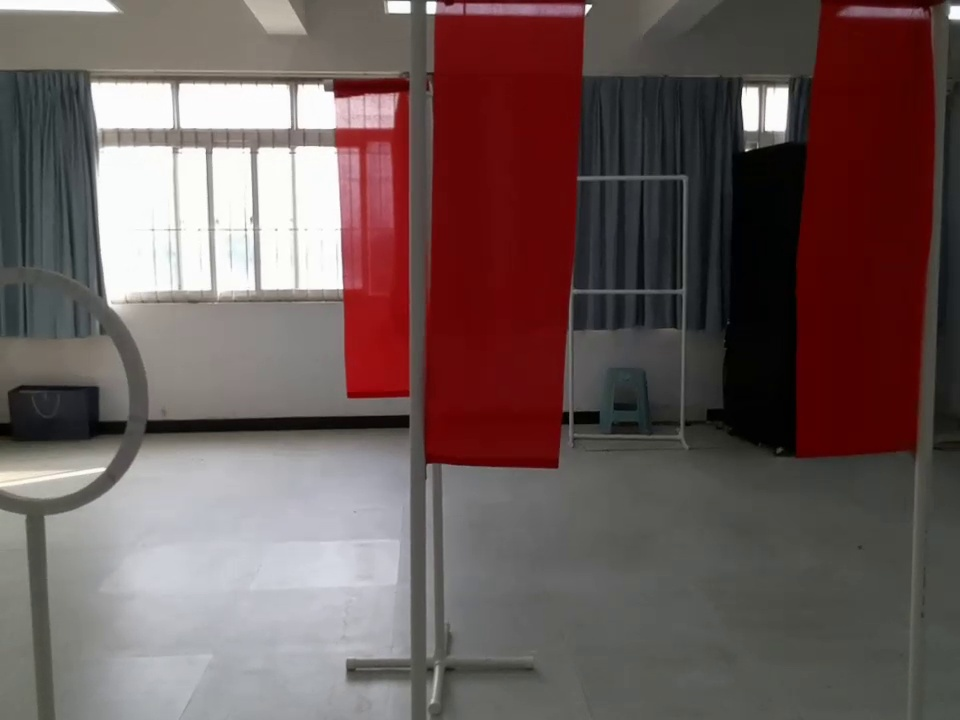qi: (398, 3, 585, 475), (794, 5, 935, 460), (314, 71, 406, 399)
quan: (4, 261, 154, 512)
